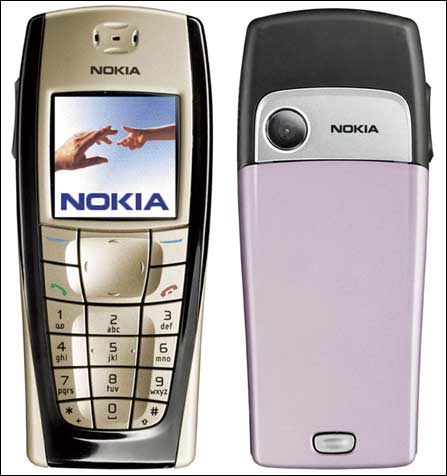phone: (231, 19, 429, 455), (21, 10, 200, 467)
